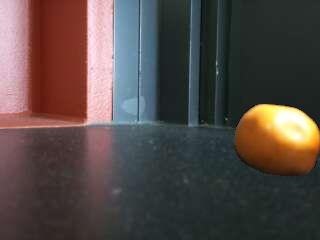Potato: (232, 102, 320, 178)
